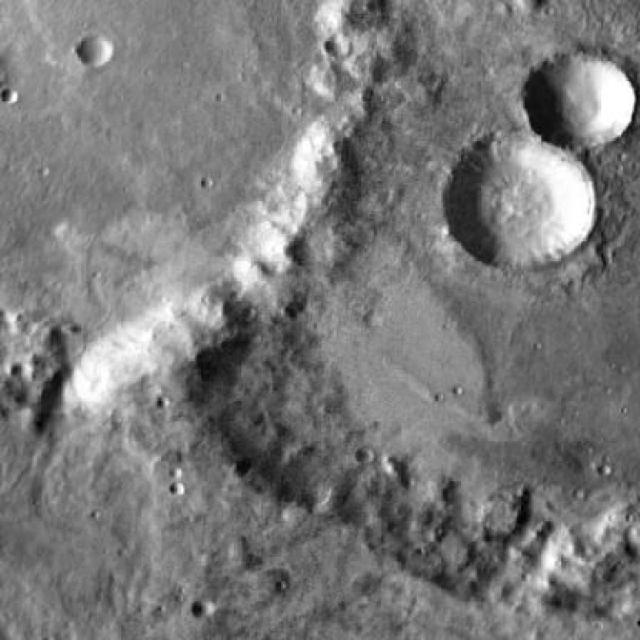crater: (177, 4, 640, 640), (0, 0, 408, 402), (441, 137, 593, 272), (528, 56, 628, 158), (77, 33, 115, 67), (346, 46, 368, 66), (196, 597, 218, 617)
